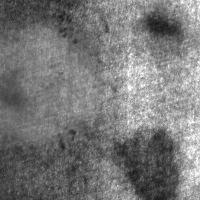patches: (0, 21, 104, 153), (111, 126, 184, 200), (128, 4, 196, 72), (142, 10, 178, 39), (1, 68, 26, 109)
